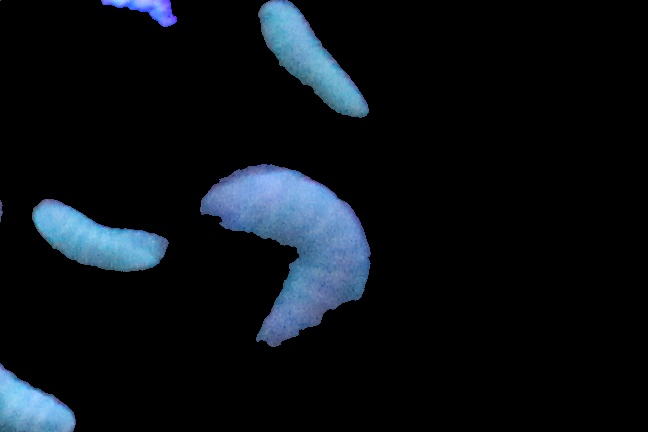larvae: (203, 162, 367, 356), (249, 1, 372, 125), (36, 194, 168, 272), (1, 357, 80, 432)
